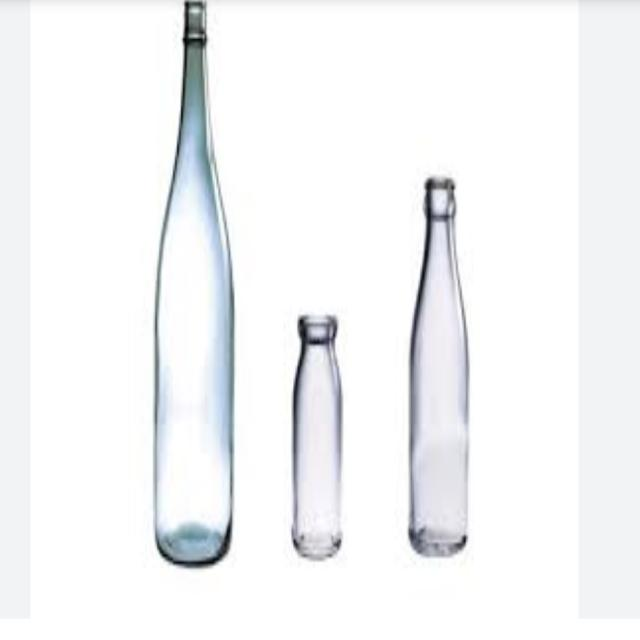recyclable: (139, 0, 253, 576), (398, 167, 482, 562), (280, 301, 353, 564)
